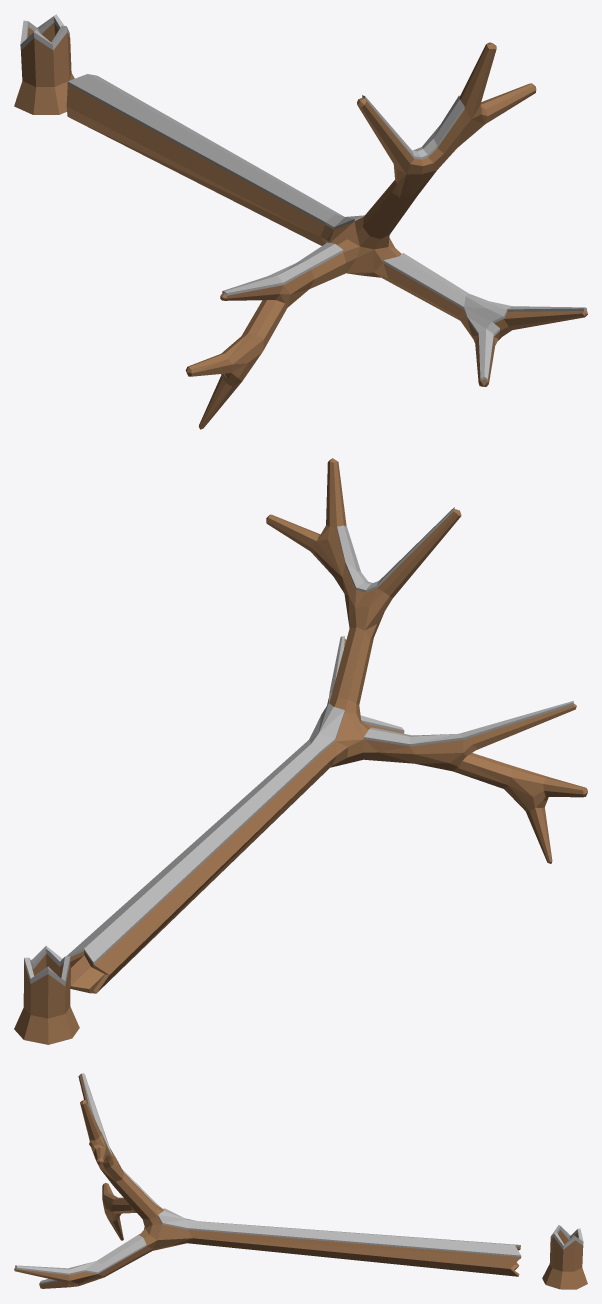
File: Tree_9 Broken Winter.fbx
3 renders of one model, top to bottom at view 1: azimuth 30°, elevation 25°; view 2: azimuth 150°, elevation 25°; view 3: azimuth 270°, elevation 25°, orthographic. The views are drawn at different scales.
Visible parts, largest first — view 1: Tree9BrokenWinter_mesh; view 2: Tree9BrokenWinter_mesh; view 3: Tree9BrokenWinter_mesh.
Boxes of the visible parts, x1,y1,x2,y2 form: Tree9BrokenWinter_mesh: (14,14,587,429); Tree9BrokenWinter_mesh: (14,458,587,1044); Tree9BrokenWinter_mesh: (14,1073,587,1289).
Size of the model in its own units: 184 by 175 by 409.
